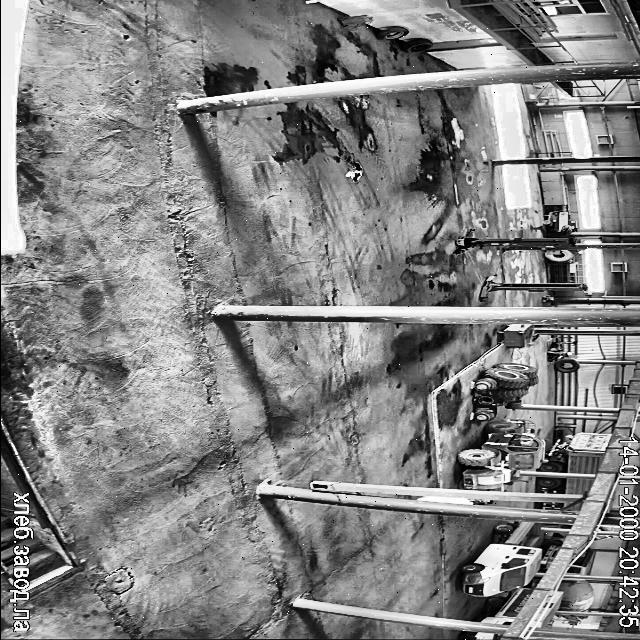class4: (417, 496, 492, 504), (469, 500, 492, 504)
class6: (458, 420, 546, 489), (474, 362, 538, 420)
class7: (460, 522, 540, 596), (540, 432, 610, 472), (483, 588, 532, 624), (558, 580, 594, 619), (538, 477, 591, 494), (538, 592, 562, 628), (540, 536, 563, 572), (567, 548, 595, 574), (462, 632, 500, 640), (543, 500, 564, 508), (571, 504, 580, 510)
truck: (479, 275, 588, 300), (455, 230, 574, 252)
